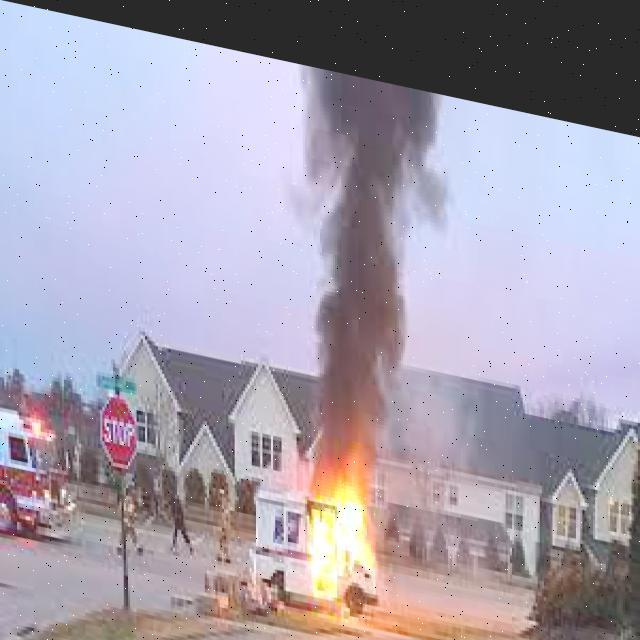Fire: (307, 429, 378, 586)
